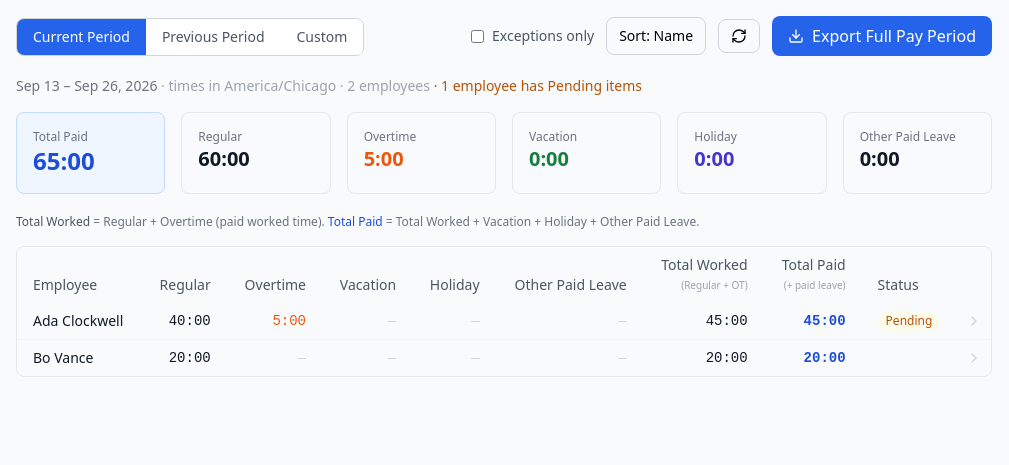
Test case: Pay Periods — selecting a historical period › reloads the summary for exactly that period and updates every payroll total
Step 1. Click the button "Custom" → point(322, 37), box [280, 19, 363, 55]
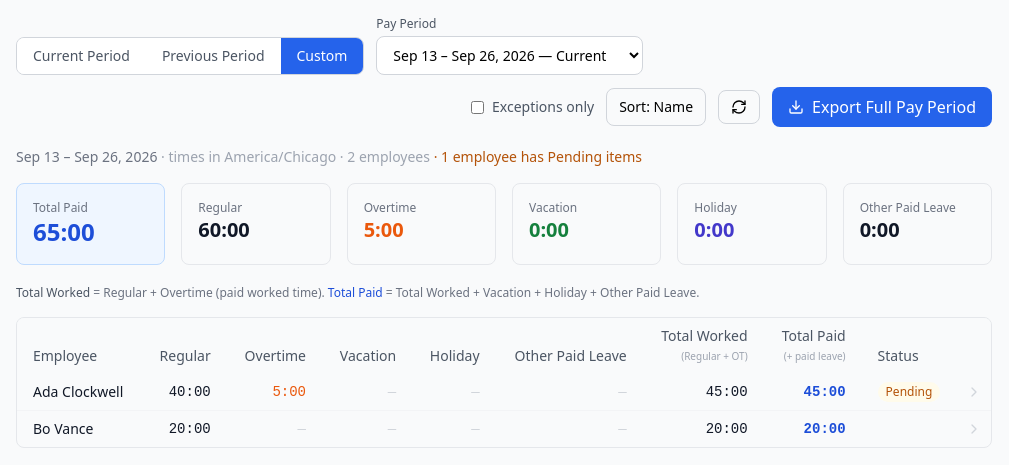
Step 2. Select "Aug 16 – Aug 29, 2026" in the dropdown labelled "Pay Period" → point(510, 56), box [376, 36, 643, 75]
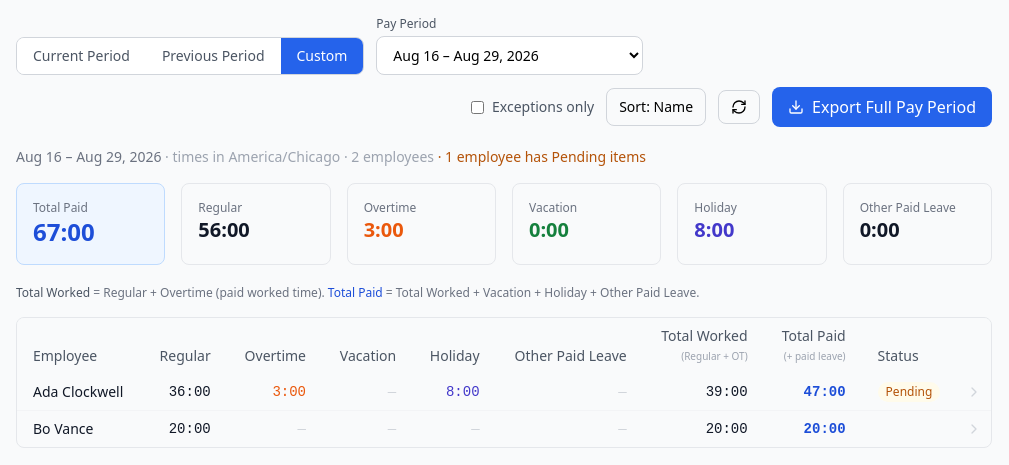
Expected: the element with test id "period-heading" shows "Aug 16 – Aug 29, 2026", [16, 147, 161, 166]
